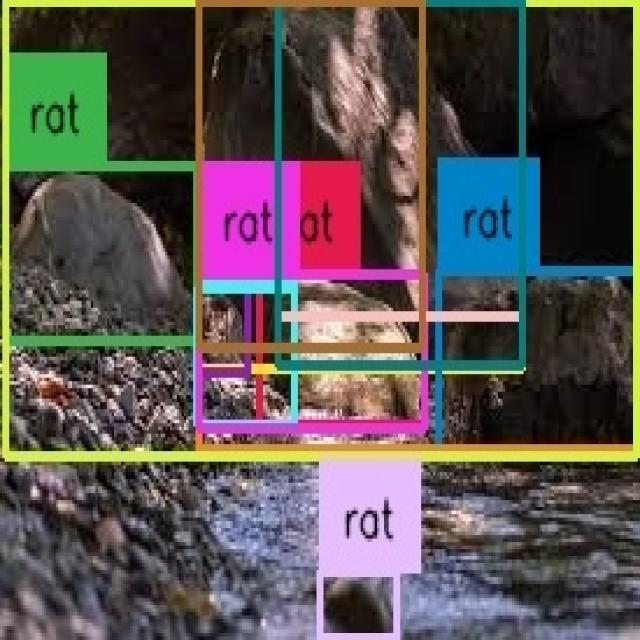rat: (6, 2, 636, 456), (198, 2, 638, 449), (199, 0, 522, 371), (277, 0, 524, 367), (198, 2, 423, 348), (278, 2, 523, 316), (439, 269, 639, 455), (198, 274, 426, 428), (7, 168, 198, 343), (260, 274, 424, 425), (196, 290, 293, 427), (321, 572, 396, 638), (197, 288, 248, 372)
